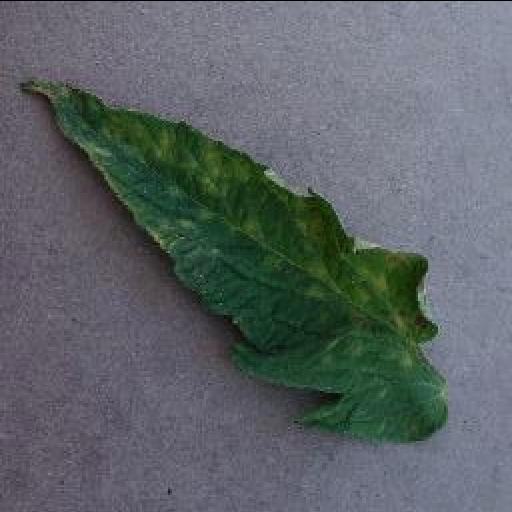disease_tomato: (19, 80, 445, 444)
